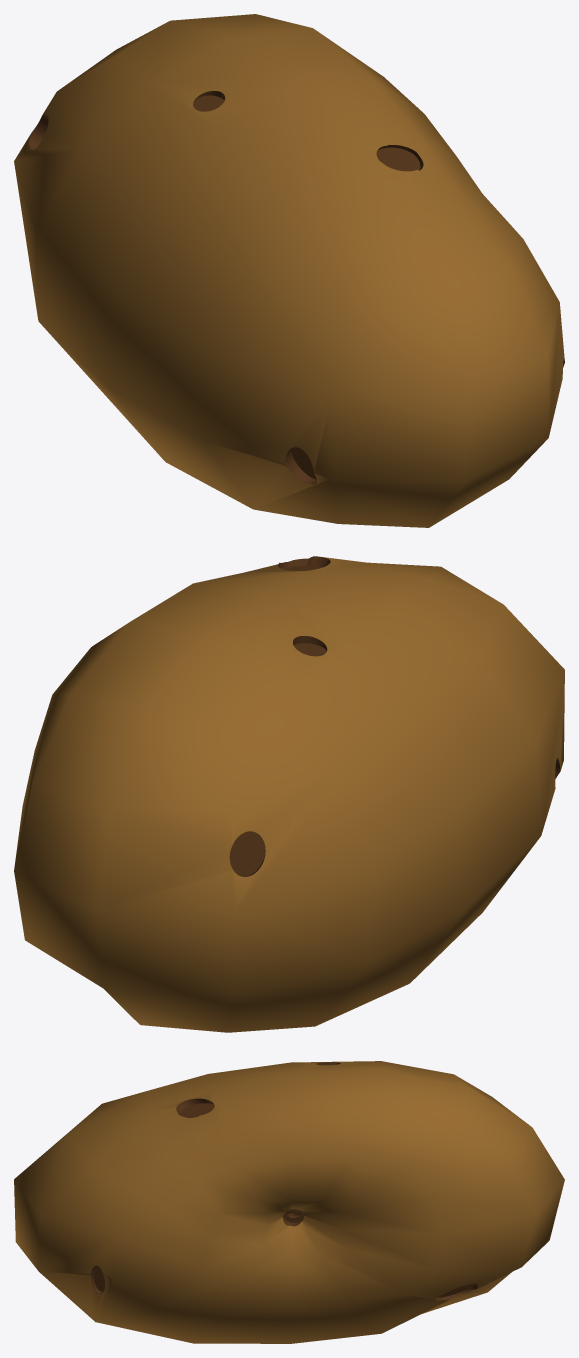
File: Potato.fbx
3 renders of one model, top to bottom at view 1: azimuth 30°, elevation 25°; view 2: azimuth 150°, elevation 25°; view 3: azimuth 270°, elevation 25°, orthographic. The views are drawn at different scales.
Parts seen in each view (by area): view 1: Cube; view 2: Cube; view 3: Cube.
Boxes of the visible parts, x1,y1,x2,y2 form: Cube: (14,14,564,527); Cube: (14,556,564,1032); Cube: (14,1061,564,1343).
Size of the model in its own units: 1.05 by 1.11 by 2.05.
